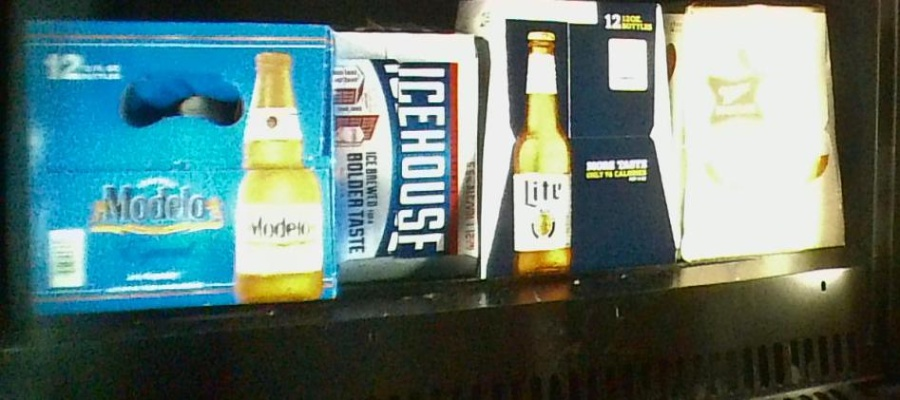bottle: (11, 20, 337, 302), (480, 3, 667, 272), (669, 6, 852, 258), (334, 26, 477, 283)
